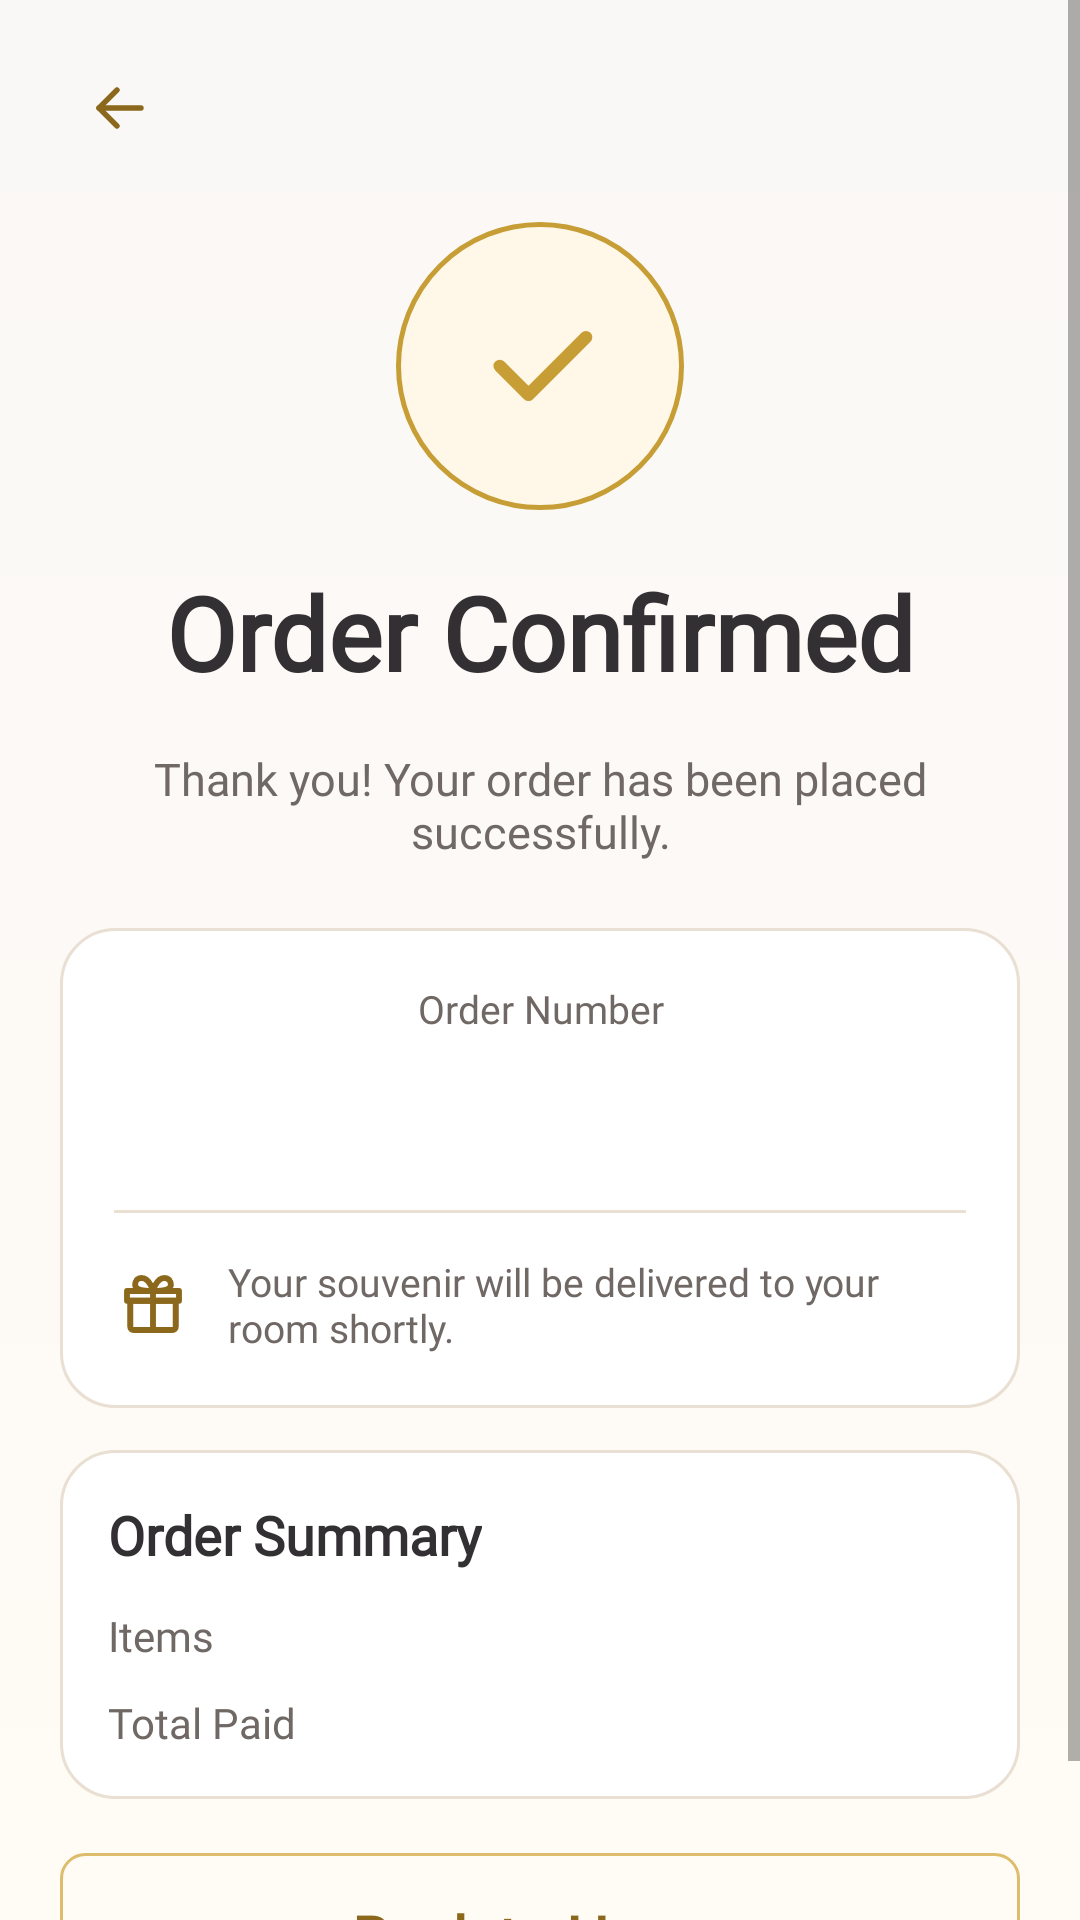

Where icons sit on this 1080x1920 app screen, as (x1, y1, x2, y2):
arrowleft: (96, 87, 144, 129)
check: (493, 331, 593, 401)
gift: (124, 1275, 182, 1333)
